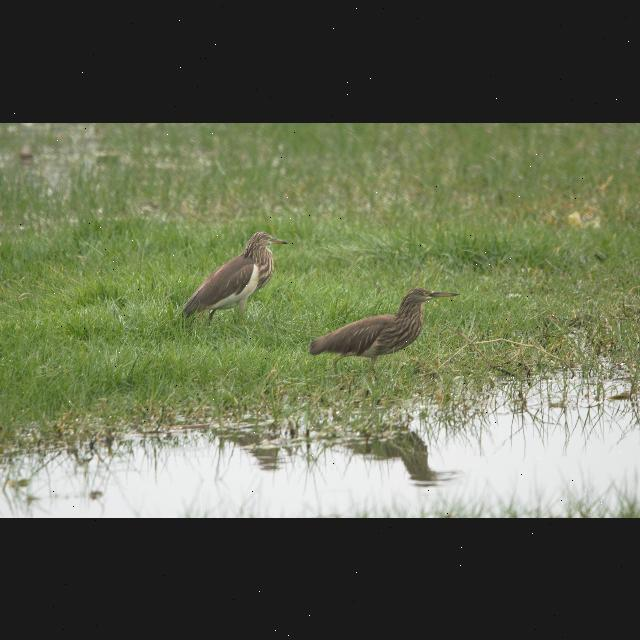heron: (306, 283, 462, 367), (181, 221, 291, 323)
